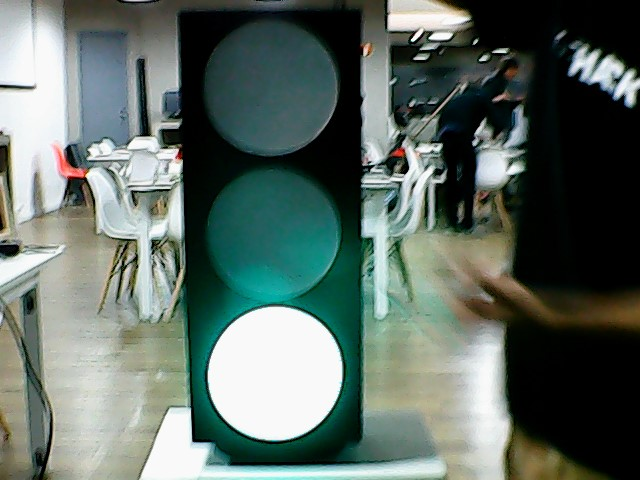verde: (168, 3, 373, 452)
